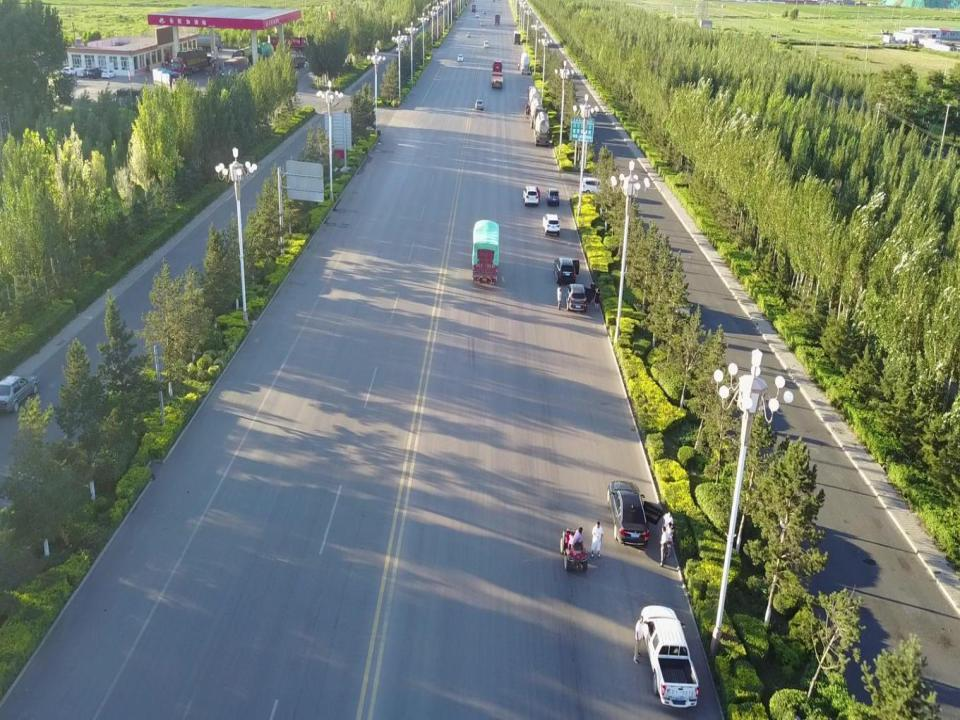bus: (471, 3, 476, 11)
car: (607, 480, 649, 543), (0, 375, 40, 411), (566, 282, 586, 312), (554, 258, 576, 282), (582, 178, 608, 195), (542, 213, 560, 235), (524, 186, 541, 207), (546, 187, 560, 204), (88, 67, 102, 79), (101, 69, 114, 78), (76, 68, 88, 77), (63, 66, 75, 75), (474, 100, 484, 110), (466, 31, 472, 38), (457, 54, 463, 61), (480, 20, 484, 26), (475, 12, 479, 17), (482, 10, 486, 14)
truck: (641, 606, 699, 708), (163, 31, 223, 53), (268, 35, 312, 61), (232, 43, 276, 68), (170, 50, 211, 73), (152, 67, 187, 92), (269, 49, 306, 69), (222, 54, 251, 79), (491, 62, 502, 88)
van: (472, 219, 498, 284), (513, 31, 521, 44), (495, 13, 500, 24), (483, 41, 490, 47)
